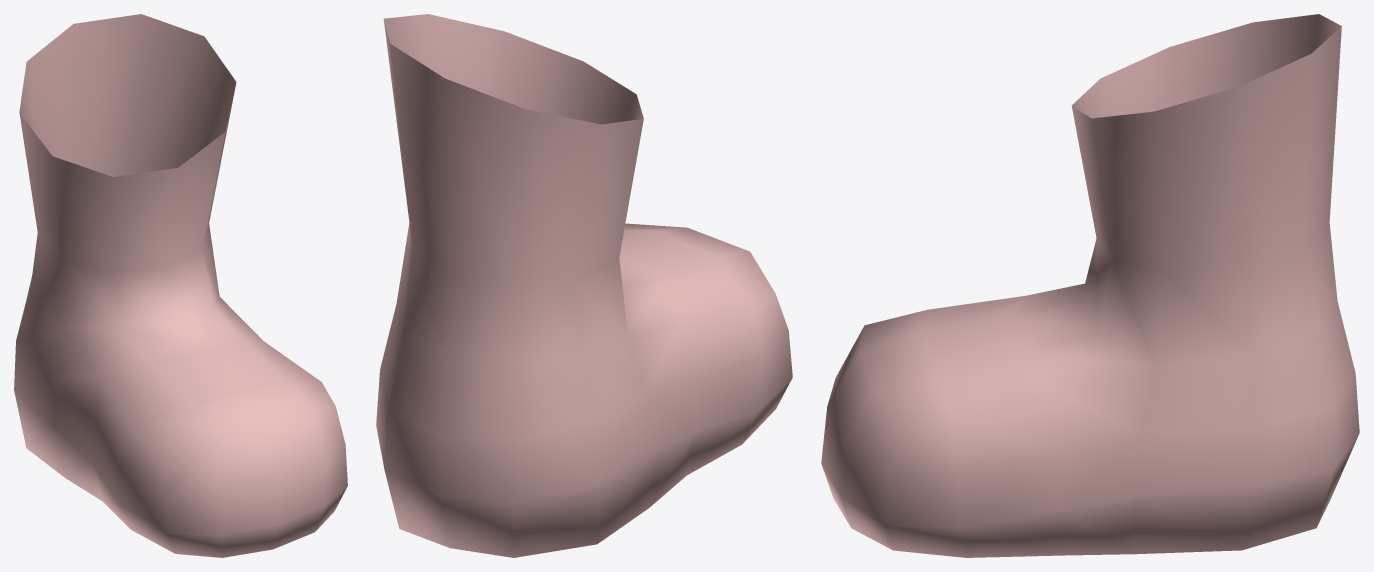
The model's file is Nendoroid_B_Foot01.fbx.
The picture shows the model from 3 angles, left to right: view 1: azimuth 30°, elevation 25°; view 2: azimuth 150°, elevation 25°; view 3: azimuth 270°, elevation 25°; orthographic projection. The views are drawn at different scales.
Parts seen in each view (by area): view 1: Nendoroid_B_Foot01; view 2: Nendoroid_B_Foot01; view 3: Nendoroid_B_Foot01.
Boxes of the visible parts, x1=… form: Nendoroid_B_Foot01: x1=14, y1=14, x2=347, y2=557; Nendoroid_B_Foot01: x1=376, y1=14, x2=792, y2=557; Nendoroid_B_Foot01: x1=821, y1=14, x2=1359, y2=557.
Bounding box in the file's own units: 0.2763 × 0.4826 × 0.4905.
